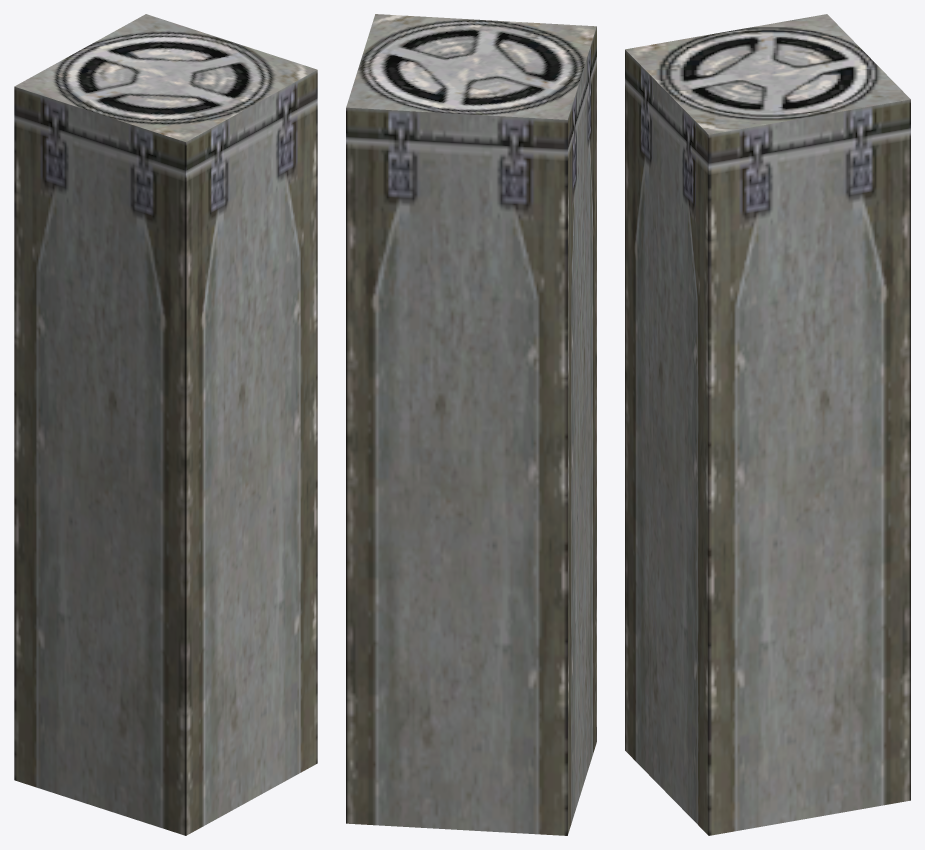
Rendered from con_gen_energy_liquid_lg_l2.fbx.
3 renders of one model, left to right at view 1: azimuth 30°, elevation 25°; view 2: azimuth 150°, elevation 25°; view 3: azimuth 270°, elevation 25°, orthographic. The views are drawn at different scales.
Parts seen in each view (by area): view 1: mesh_node; view 2: mesh_node; view 3: mesh_node.
Part boxes in pixels (x1,y1,x2,y2): mesh_node: (14, 14, 317, 835); mesh_node: (346, 14, 596, 835); mesh_node: (625, 14, 910, 835).
Bounding box in the file's own units: 0.3812 × 1.03 × 0.3812.
